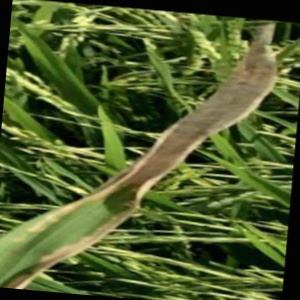Leaf_Blast: (0, 166, 141, 300)
